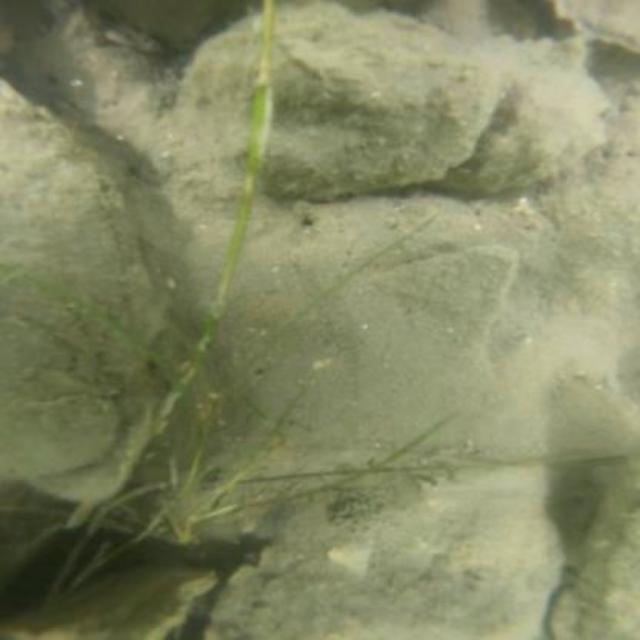Oyster-Closed: (200, 452, 564, 638), (175, 2, 488, 188), (432, 32, 601, 197), (1, 560, 220, 638), (551, 494, 638, 636)
Oyster-Open: (1, 81, 156, 495)
